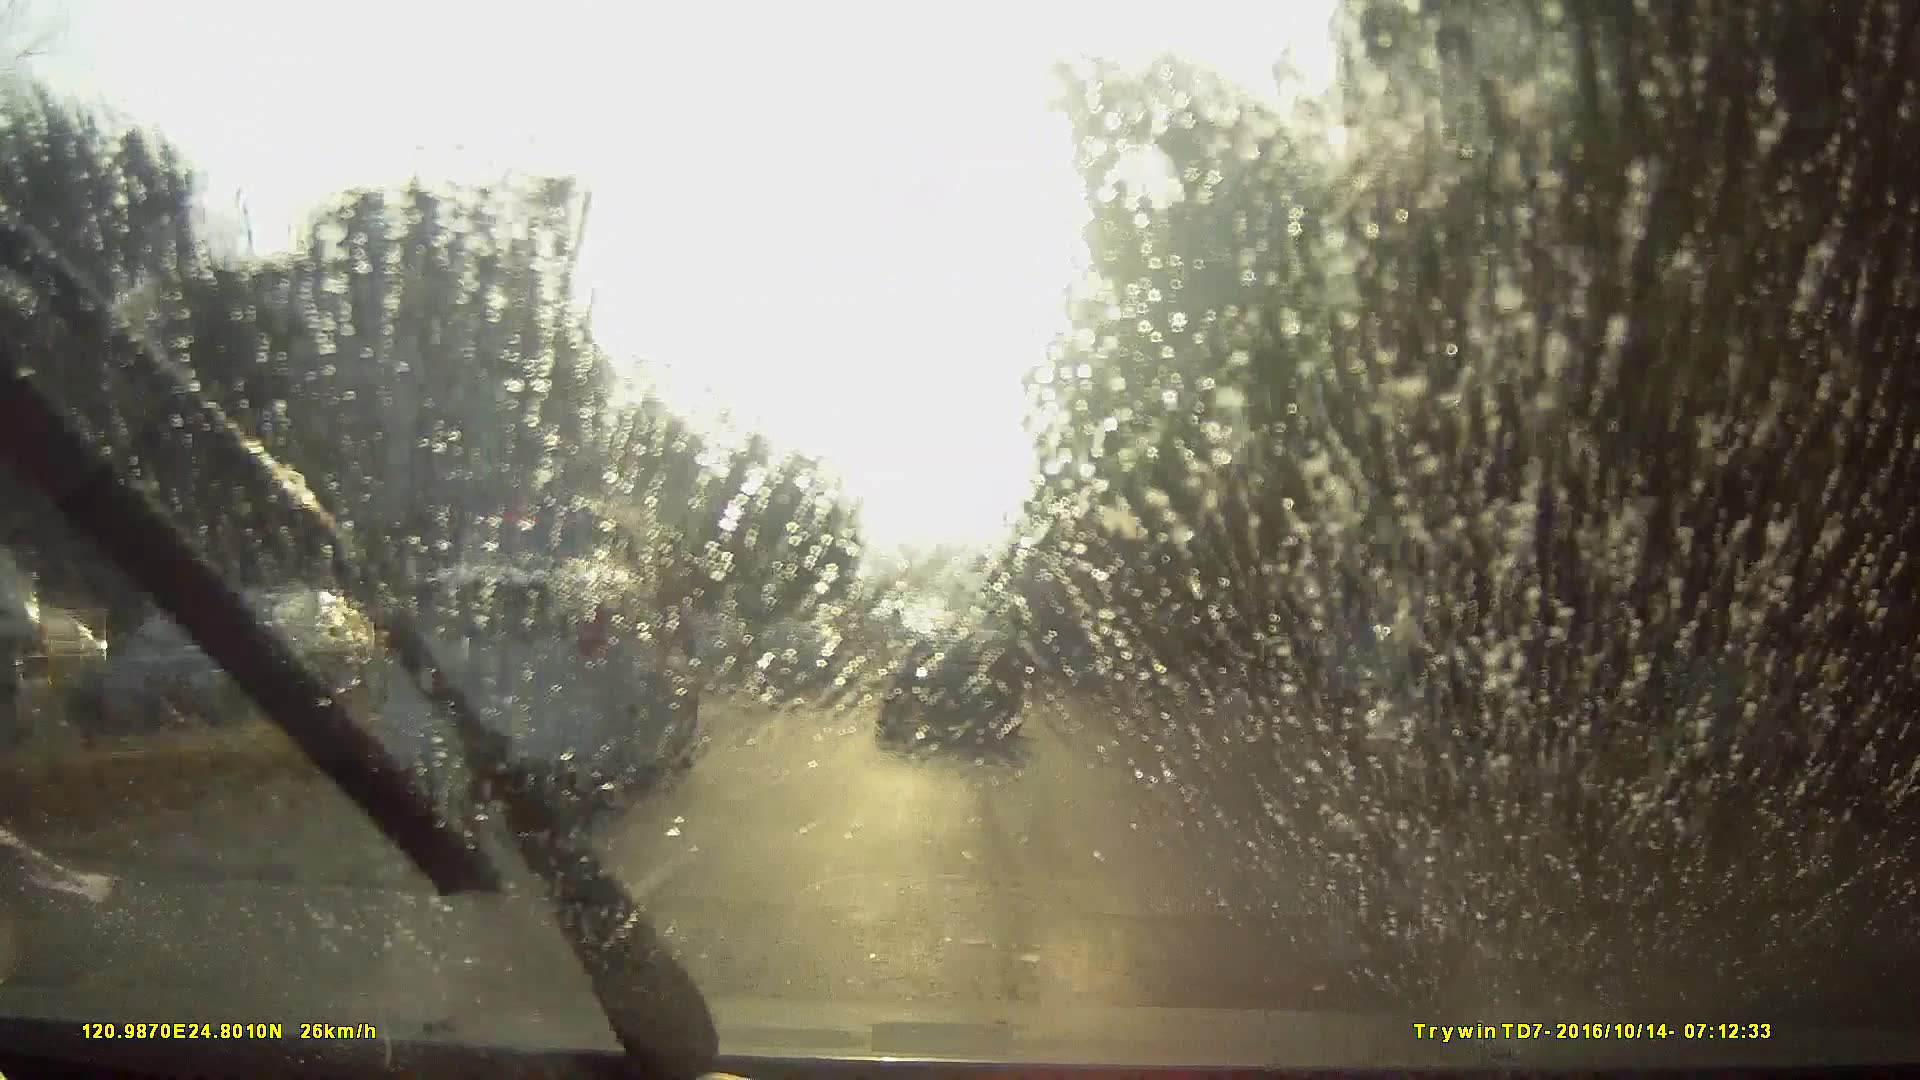vehicle: (251, 556, 684, 868), (390, 551, 702, 793), (406, 477, 713, 691), (876, 601, 1021, 753), (1000, 559, 1104, 684), (738, 615, 848, 702), (866, 638, 915, 687)
